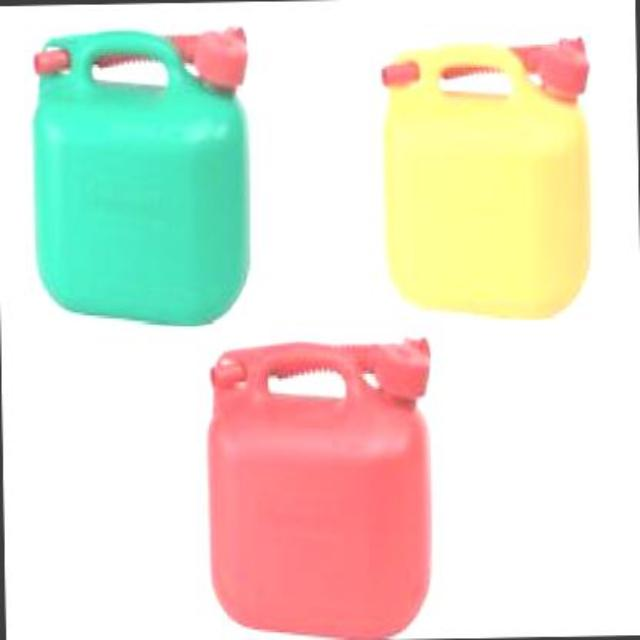chemical_plastic_gallon: (20, 11, 260, 326), (204, 324, 440, 640), (366, 22, 600, 316)
